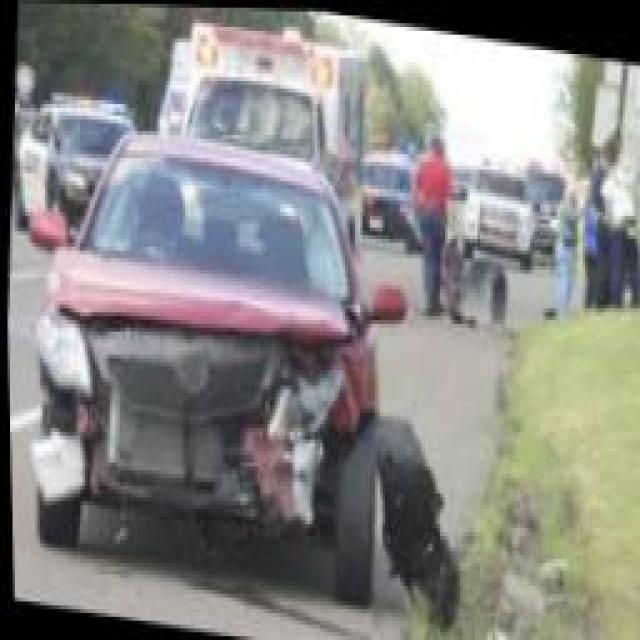Bumper: (30, 352, 369, 534)
Light: (273, 347, 340, 423)
